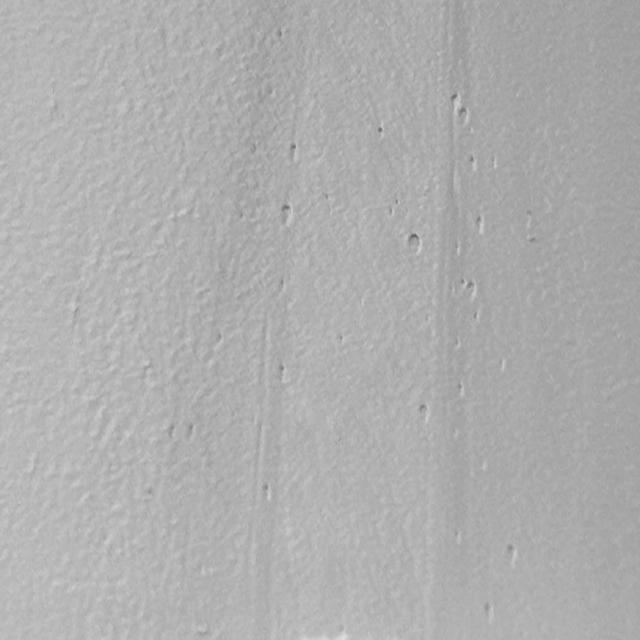pin holes: (456, 276, 479, 301), (501, 541, 521, 569), (276, 202, 294, 229), (415, 401, 434, 426), (405, 232, 423, 258), (480, 601, 498, 625), (284, 142, 301, 165), (258, 481, 274, 504), (449, 528, 465, 550), (474, 215, 488, 236), (456, 106, 468, 129), (194, 624, 213, 638), (275, 364, 288, 384), (467, 154, 479, 174), (448, 92, 461, 110), (376, 124, 387, 140), (455, 382, 466, 398), (385, 204, 396, 220), (488, 156, 498, 172), (498, 355, 506, 375), (214, 332, 224, 348), (279, 278, 287, 296), (188, 423, 194, 439), (338, 332, 343, 348), (473, 310, 480, 321)
